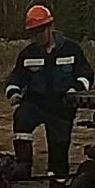gloves: (7, 90, 23, 109)
helmet: (23, 0, 54, 30)
vest: (12, 36, 85, 114)
